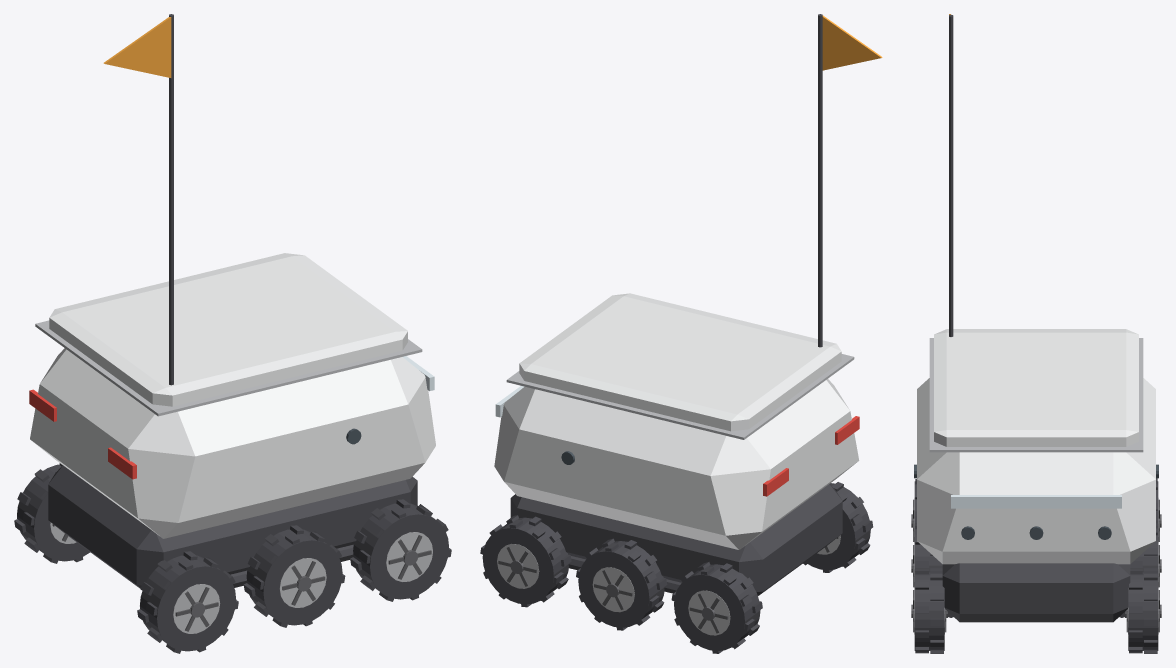
File: rover_bot.glb
3 views of the same model, side by side, from view 1: azimuth 30°, elevation 25°; view 2: azimuth 150°, elevation 25°; view 3: azimuth 270°, elevation 25° (orthographic). The views are drawn at different scales.
Parts seen in each view (by area): view 1: rover_v1, rover_v2, rover_v0, wheel_rr_v0, wheel_fr_v0, wheel_mr_v0, wheel_rl_v0, rover_v3, rover_v13, rover_v12; view 2: rover_v1, rover_v2, rover_v0, wheel_rl_v0, wheel_fl_v0, wheel_ml_v0, wheel_rr_v0, rover_v3, rover_v13, rover_v12; view 3: rover_v1, rover_v2, rover_v0, wheel_fl_v0, wheel_fr_v0, rover_v3, rover_v4, rover_v12, wheel_ml_v0, wheel_mr_v0.
Boxes of the visible parts, x1,y1,x2,y2 form: rover_v1: (30, 348, 435, 538); rover_v2: (49, 253, 407, 406); rover_v0: (48, 465, 417, 588); wheel_rr_v0: (137, 551, 238, 653); wheel_fr_v0: (350, 499, 451, 601); wheel_mr_v0: (243, 525, 345, 627); wheel_rl_v0: (14, 463, 90, 563); rover_v3: (35, 320, 422, 416); rover_v13: (103, 17, 171, 77); rover_v12: (169, 14, 173, 385); rover_v1: (494, 379, 859, 549); rover_v2: (519, 293, 841, 431); rover_v0: (510, 484, 842, 595); wheel_rl_v0: (671, 562, 762, 653); wheel_fl_v0: (480, 515, 571, 607); wheel_ml_v0: (576, 538, 667, 630); wheel_rr_v0: (803, 482, 873, 572); rover_v3: (506, 354, 854, 439); rover_v13: (822, 15, 882, 70); rover_v12: (818, 14, 822, 347); rover_v1: (917, 378, 1155, 564); rover_v2: (934, 329, 1138, 446); rover_v0: (942, 563, 1130, 622); wheel_fl_v0: (1125, 568, 1161, 653); wheel_fr_v0: (911, 568, 947, 653); rover_v3: (929, 338, 1143, 452); rover_v4: (951, 495, 1121, 508); rover_v12: (949, 14, 953, 336); wheel_ml_v0: (1130, 523, 1161, 587); wheel_mr_v0: (911, 524, 942, 587).
Bounding box in the file's own units: 0.778 × 1.4 × 0.5854.
11 materials, 1 textured.
